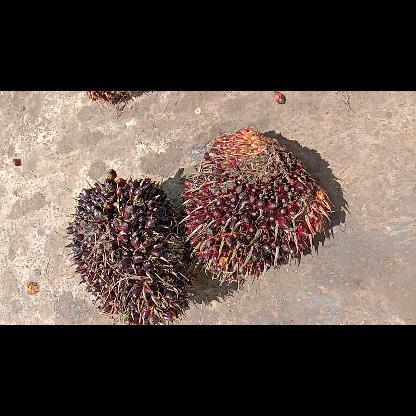TBS mentah: (180, 126, 332, 284), (66, 168, 192, 324)
